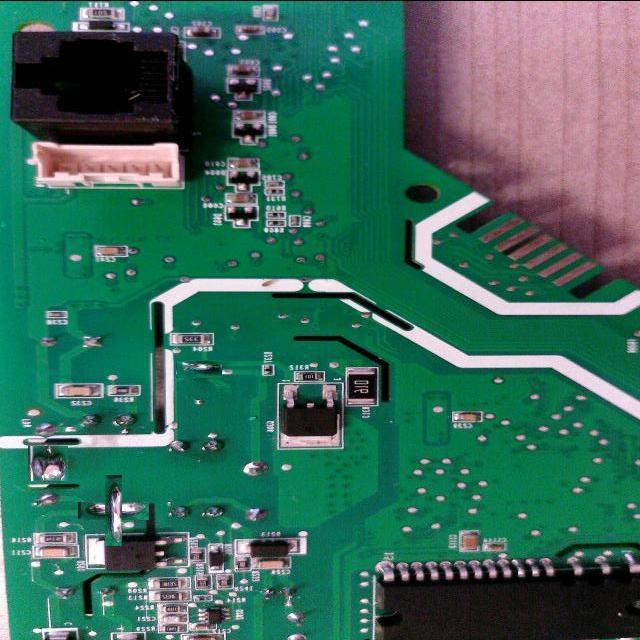Short_circuit: (91, 489, 136, 533), (29, 444, 67, 482), (176, 360, 222, 378)
